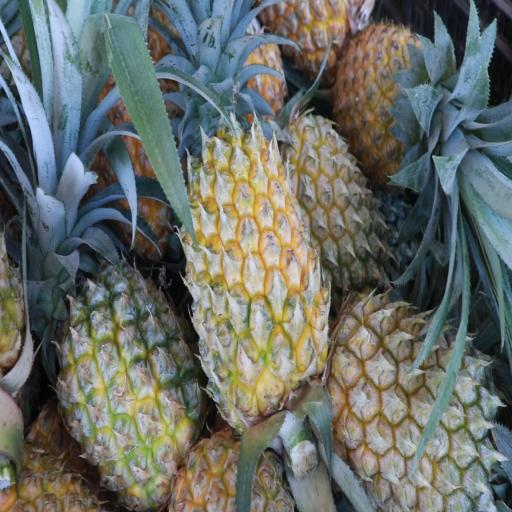Pineapple - v8 v1: (190, 128, 330, 414), (56, 275, 196, 499), (336, 26, 436, 174)
